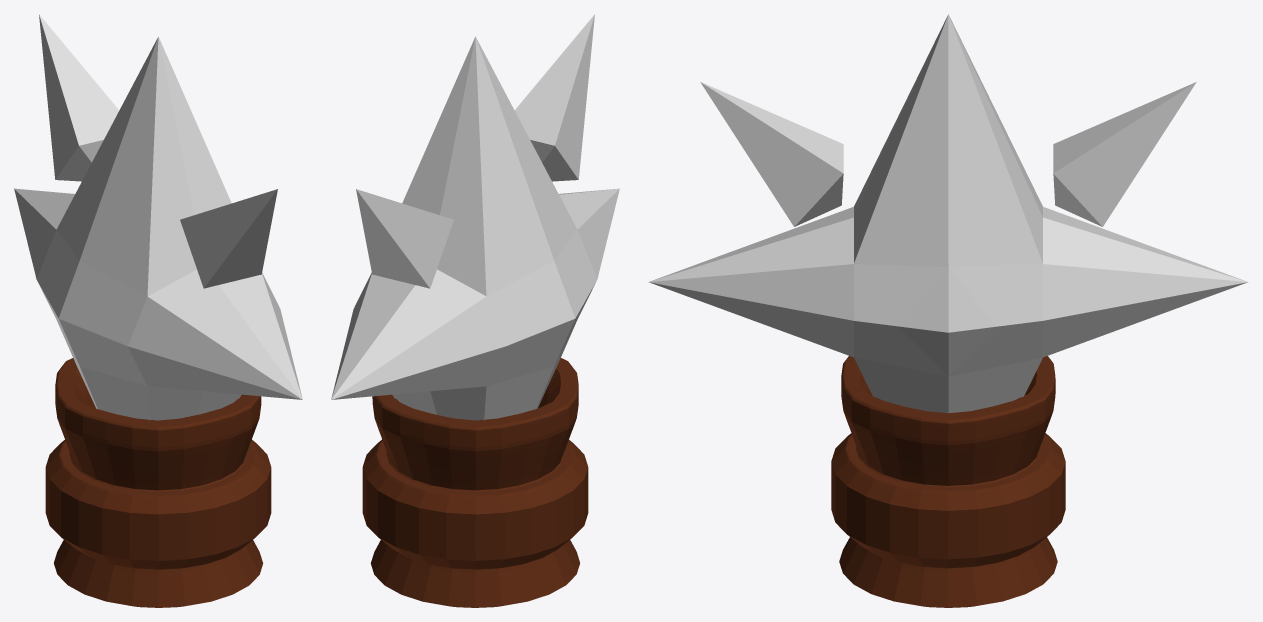
File: StarkKey.fbx
3 views of the same model, side by side, from view 1: azimuth 30°, elevation 25°; view 2: azimuth 150°, elevation 25°; view 3: azimuth 270°, elevation 25° (orthographic). The views are drawn at different scales.
Parts seen in each view (by area): view 1: Key Crystal, Handle Star Key; view 2: Key Crystal, Handle Star Key; view 3: Key Crystal, Handle Star Key.
Boxes of the visible parts, x1=… form: Key Crystal: x1=14, y1=14, x2=302, y2=420; Handle Star Key: x1=45, y1=358, x2=271, y2=607; Key Crystal: x1=331, y1=14, x2=619, y2=420; Handle Star Key: x1=362, y1=358, x2=588, y2=607; Key Crystal: x1=648, y1=14, x2=1248, y2=413; Handle Star Key: x1=831, y1=356, x2=1065, y2=607.
Bounding box in the file's own units: 60.66 × 163 × 152.
